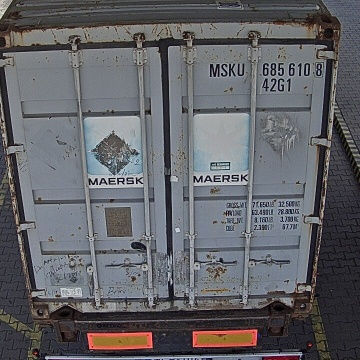serial_id: (210, 62, 324, 76)
